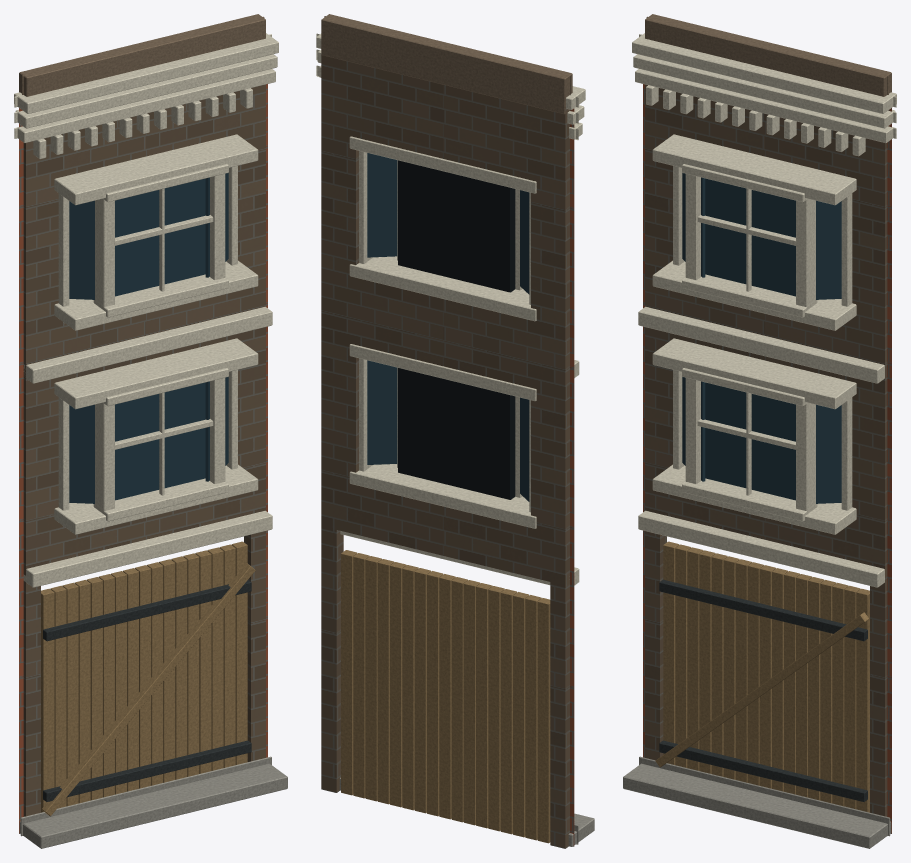
The model's file is VICT21_lod1.glb.
3 renders of one model, left to right at view 1: azimuth 30°, elevation 25°; view 2: azimuth 150°, elevation 25°; view 3: azimuth 330°, elevation 25°, orthographic.
Visible parts, largest first — view 1: VICT21_FRONT_LOD1; view 2: VICT21_FRONT_LOD1; view 3: VICT21_FRONT_LOD1.
Boxes of the visible parts, left/top/right/bottom form: VICT21_FRONT_LOD1: left=14, top=14, right=287, bottom=848; VICT21_FRONT_LOD1: left=316, top=14, right=594, bottom=848; VICT21_FRONT_LOD1: left=623, top=14, right=896, bottom=848.
Bounding box in the file's own units: 3.44 × 9.66 × 0.695.
10 materials, 8 textured.
